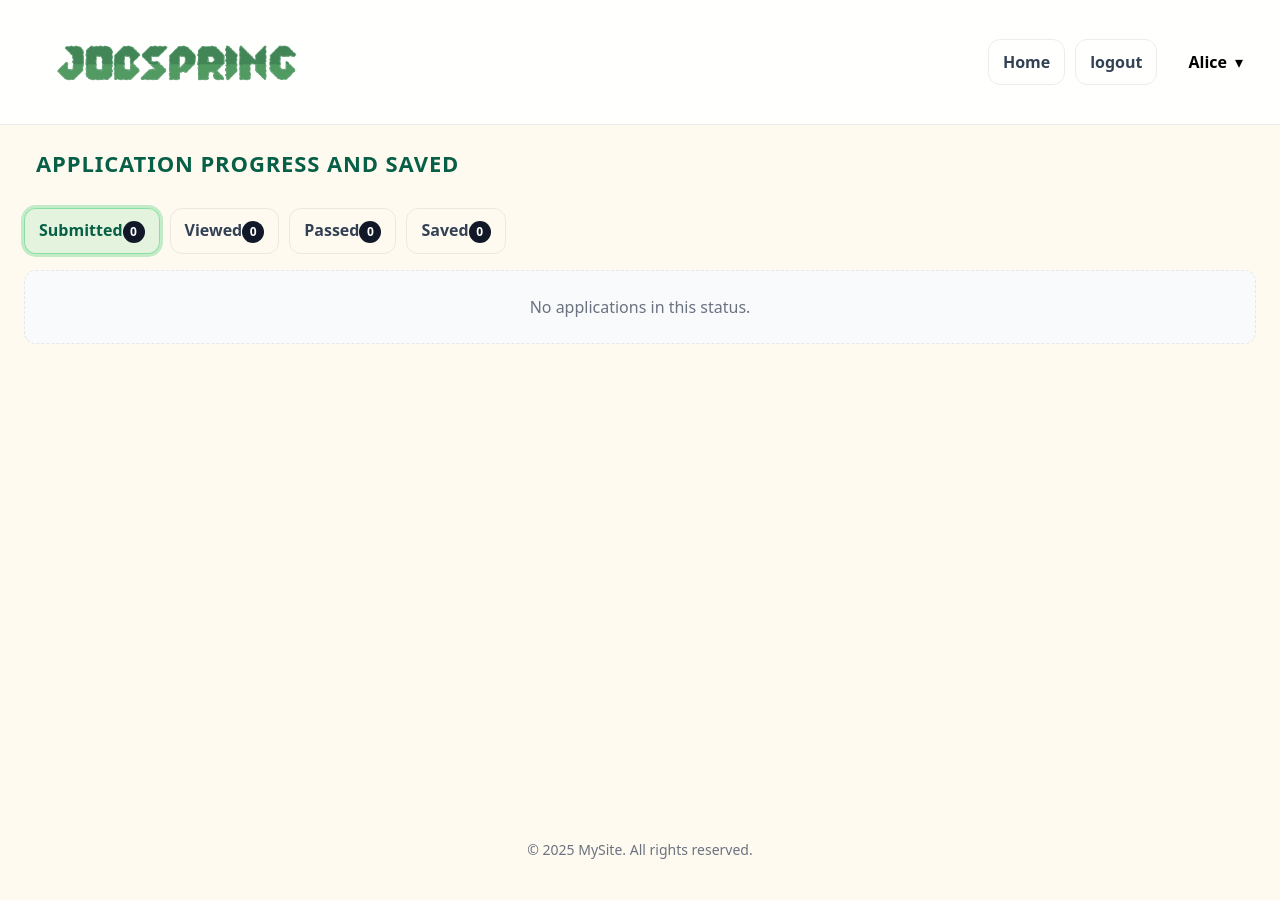
shows empty message when no data
Check: the text "No applications in this status." is shown, box [24,270,1256,344]
Click the tab "Saved 0": point(456, 231) [406,208,506,254]
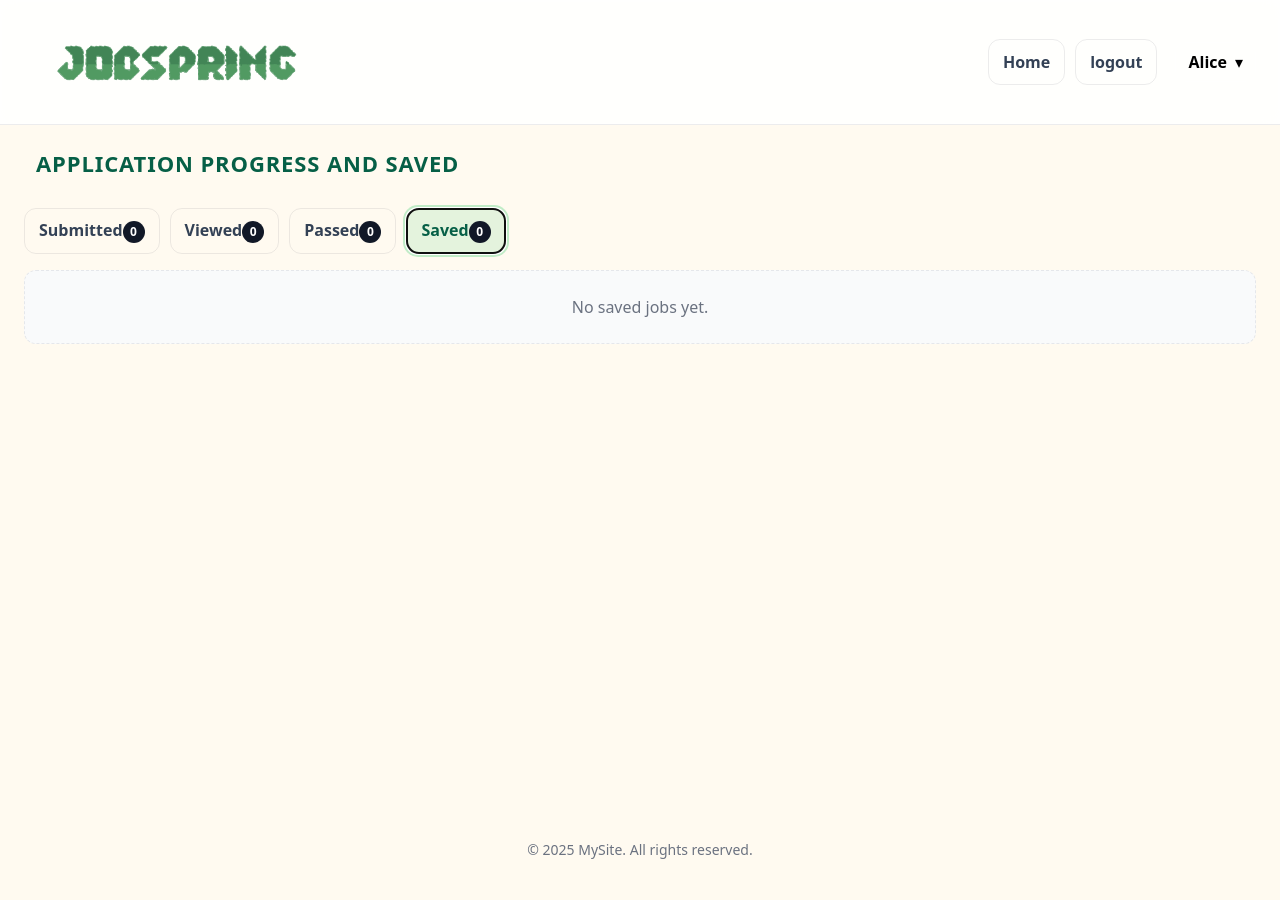
Check: the text "No saved jobs yet." is shown, box [24,270,1256,344]
